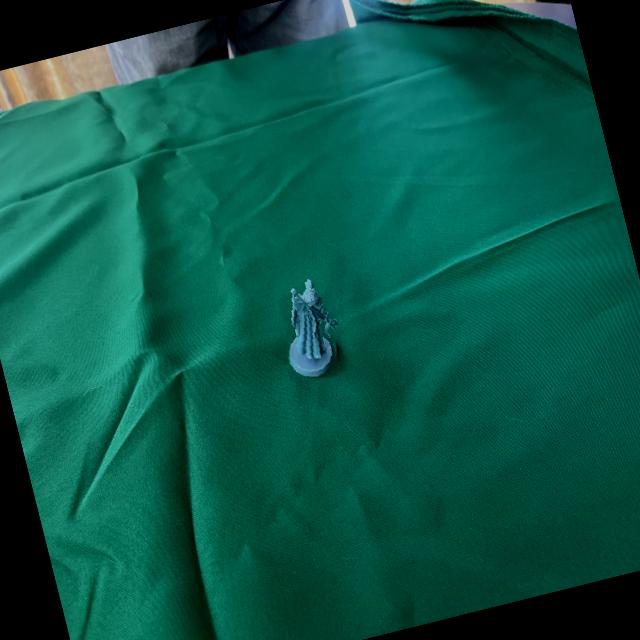isis_follower: (268, 260, 352, 385)
